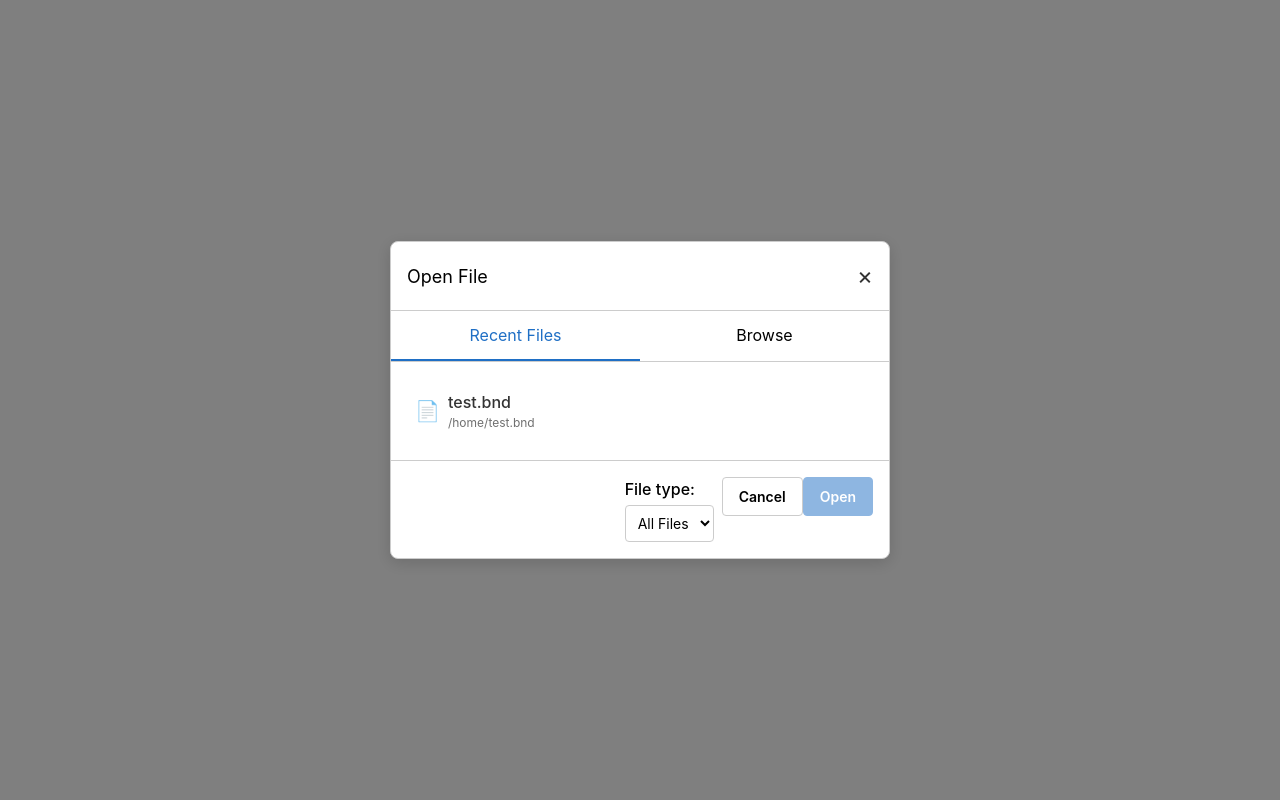
it: FilePickerDialog Component › File Selection › should enable Open button when file is selected
Click the element showing "📄 test.bnd /home/test.bnd".
click(475, 411)  # box x1=415 y1=392 x2=535 y2=430
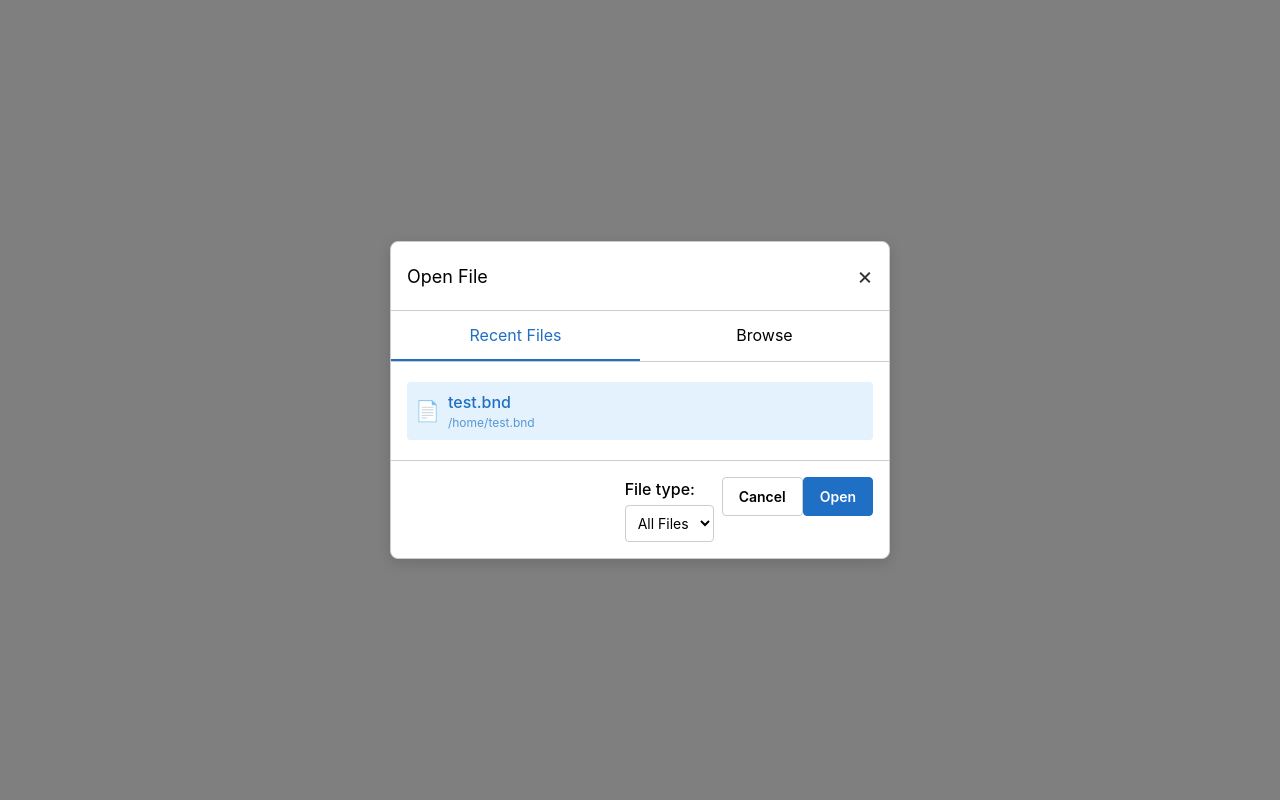
Result: the button "Open" is enabled at x1=803 y1=477 x2=873 y2=516
